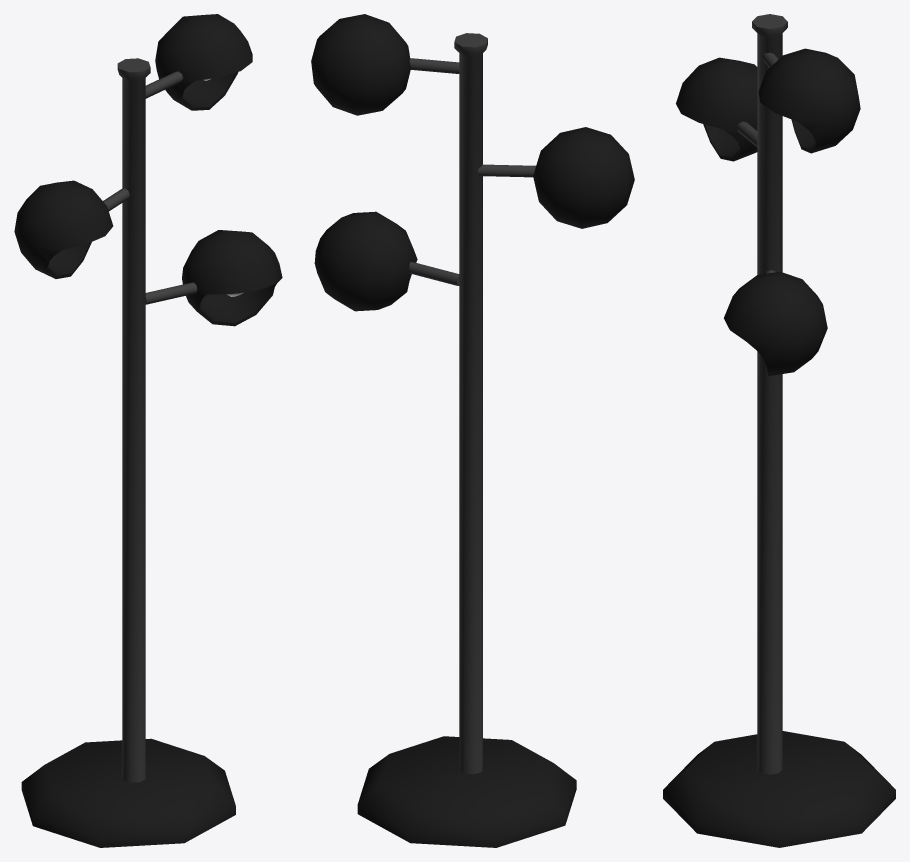
The model's file is Floor_Lamp_08.FBX.
3 renders of one model, left to right at view 1: azimuth 30°, elevation 25°; view 2: azimuth 150°, elevation 25°; view 3: azimuth 270°, elevation 25°, orthographic. The views are drawn at different scales.
Parts seen in each view (by area): view 1: Floor_Lamp; view 2: Floor_Lamp; view 3: Floor_Lamp.
Part boxes in pixels (left/top/right/bottom): Floor_Lamp: left=14, top=14, right=282, bottom=847; Floor_Lamp: left=311, top=14, right=634, bottom=847; Floor_Lamp: left=663, top=14, right=895, bottom=847.
Size of the model in its own units: 106 by 275 by 73.35.
